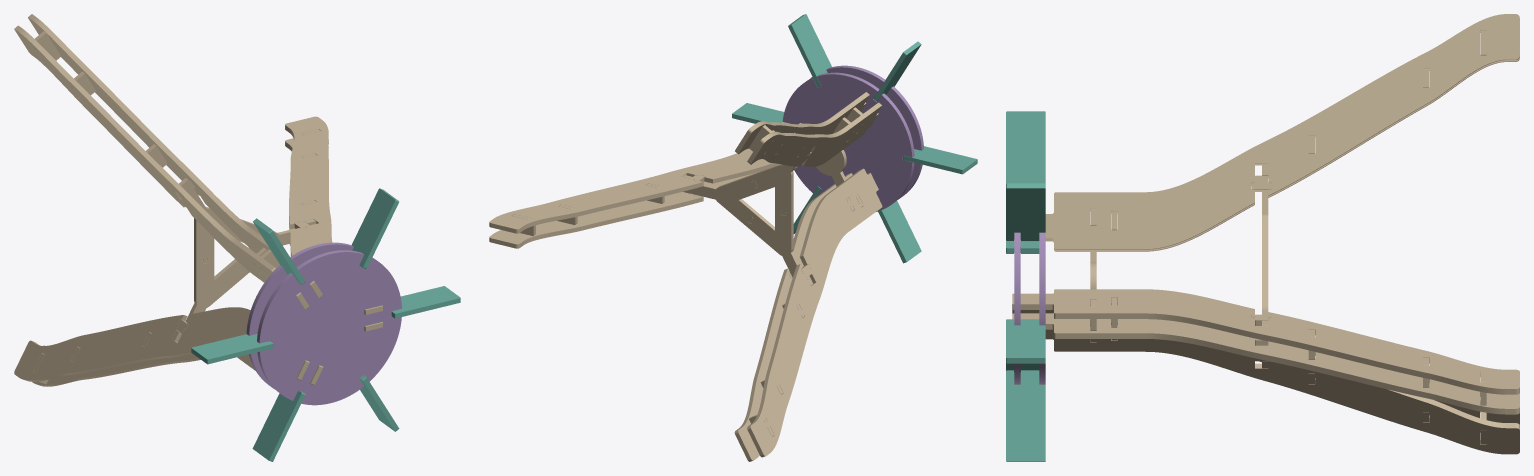
File: B-conditional-DESIGN_ONLY.glb
The picture shows the model from 3 angles, left to right: view 1: azimuth 30°, elevation 25°; view 2: azimuth 150°, elevation 25°; view 3: azimuth 270°, elevation 25°; orthographic projection. The views are drawn at different scales.
Parts seen in each view (by area): view 1: P04U, L3_P01_1, L1_P01_2, L2_P01_2, L2_P01_1, P04L, P06B3, P05_2, P05_5, P05_4, L3_P01_2, P05_1 (+4 smaller); view 2: L3_P01_1, P04L, L1_P01_2, L2_P01_2, L1_P01_1, L3_P01_2, P06B3, P06B1, P04U, L2_P01_1, P05_2, P06B2 (+5 smaller); view 3: L2_P01_1, L1_P01_2, L3_P01_2, L1_P01_1, P05_6, P05_3, P05_2, P05_1, L2_P01_2, P04L, P04U, L3_P01_1 (+2 smaller).
Boxes of the visible parts, bbox=[...] form: P04U: bbox=[257, 250, 401, 405]; L3_P01_1: bbox=[14, 307, 309, 381]; L1_P01_2: bbox=[285, 116, 382, 314]; L2_P01_2: bbox=[14, 25, 309, 309]; L2_P01_1: bbox=[28, 14, 322, 298]; P04L: bbox=[246, 242, 353, 389]; P06B3: bbox=[172, 256, 244, 341]; P05_2: bbox=[351, 188, 399, 268]; P05_5: bbox=[252, 391, 305, 461]; P05_4: bbox=[191, 334, 273, 364]; L3_P01_2: bbox=[32, 345, 323, 386]; P05_1: bbox=[391, 286, 460, 318]; L3_P01_1: bbox=[747, 168, 882, 457]; P04L: bbox=[782, 72, 914, 211]; L1_P01_2: bbox=[489, 122, 803, 233]; L2_P01_2: bbox=[747, 102, 882, 166]; L1_P01_1: bbox=[489, 164, 797, 248]; L3_P01_2: bbox=[734, 173, 852, 461]; P06B3: bbox=[747, 209, 813, 285]; P06B1: bbox=[682, 175, 758, 227]; P04U: bbox=[810, 65, 923, 199]; L2_P01_1: bbox=[735, 92, 869, 154]; P05_2: bbox=[788, 14, 831, 87]; P06B2: bbox=[749, 148, 812, 215]; L2_P01_1: bbox=[1045, 14, 1519, 249]; L1_P01_2: bbox=[1012, 289, 1519, 394]; L3_P01_2: bbox=[1045, 323, 1519, 454]; L1_P01_1: bbox=[1012, 313, 1519, 414]; P05_6: bbox=[1006, 370, 1045, 461]; P05_3: bbox=[1006, 111, 1045, 183]; P05_2: bbox=[1006, 183, 1045, 240]; P05_1: bbox=[1006, 319, 1045, 363]; L2_P01_2: bbox=[1013, 31, 1519, 251]; P04L: bbox=[1039, 232, 1045, 384]; P04U: bbox=[1014, 232, 1020, 384]; L3_P01_1: bbox=[1012, 303, 1519, 432].
Bounding box in the file's own units: 0.431 × 0.4673 × 0.494.
